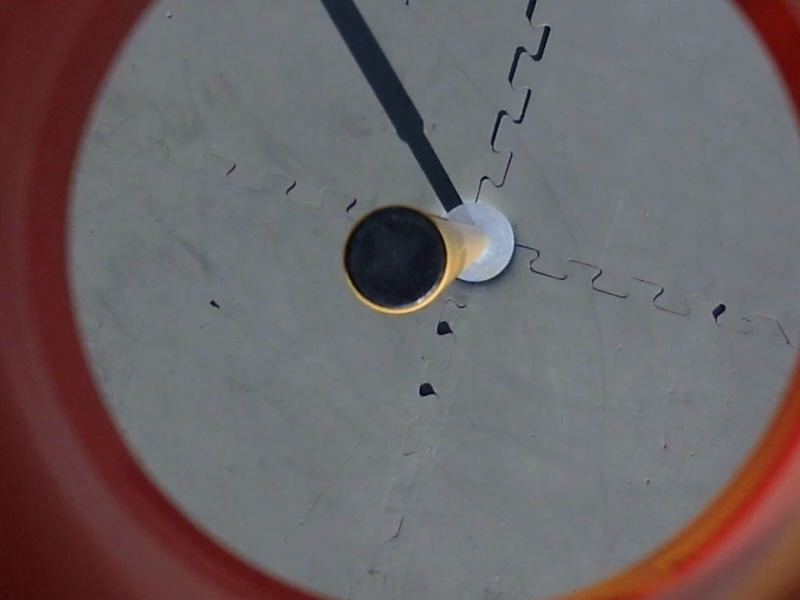tip: (339, 201, 457, 319)
